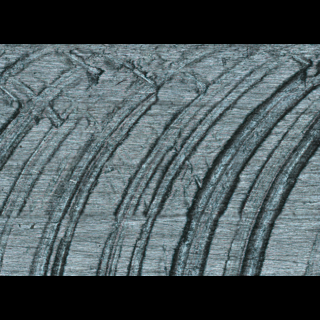d: (0, 44, 317, 273)
